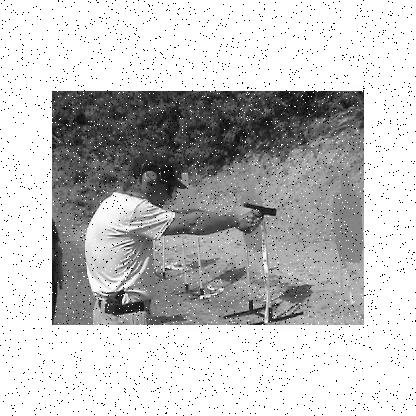gun: (240, 200, 276, 233)
